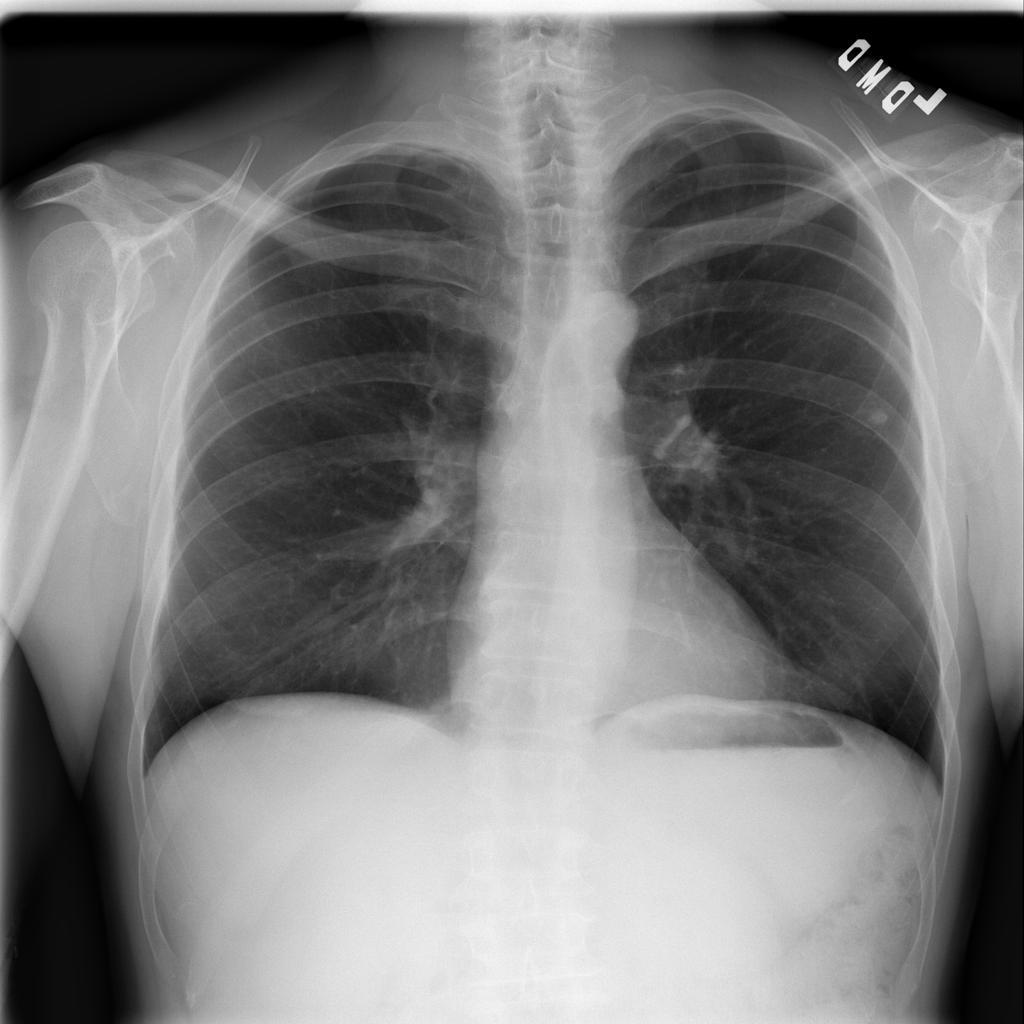nodule: (851, 393, 905, 441)
